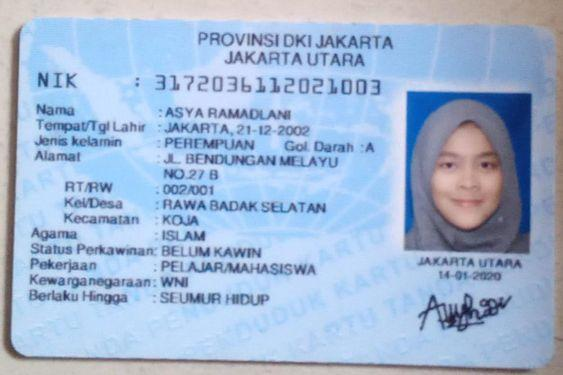ID-card: (9, 15, 551, 375)
